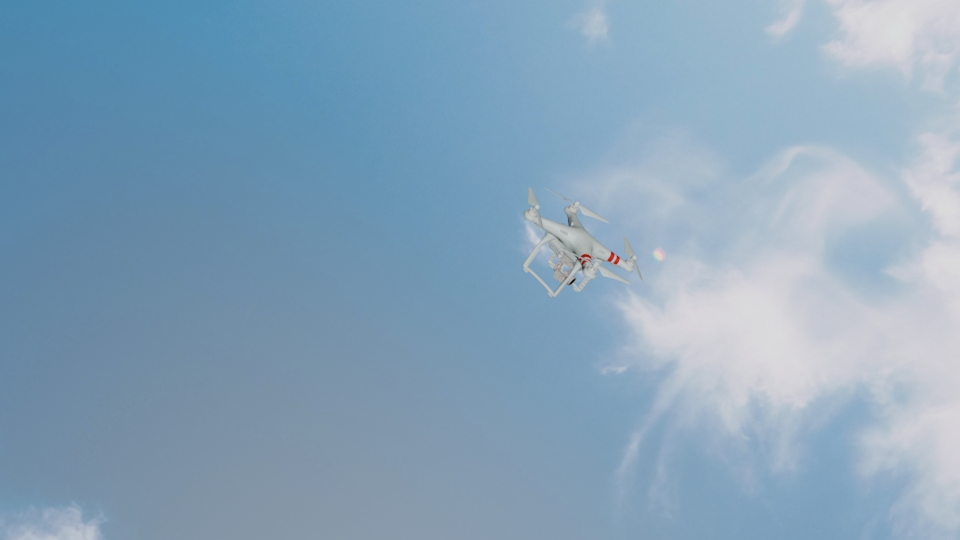drone: (509, 184, 644, 303)
